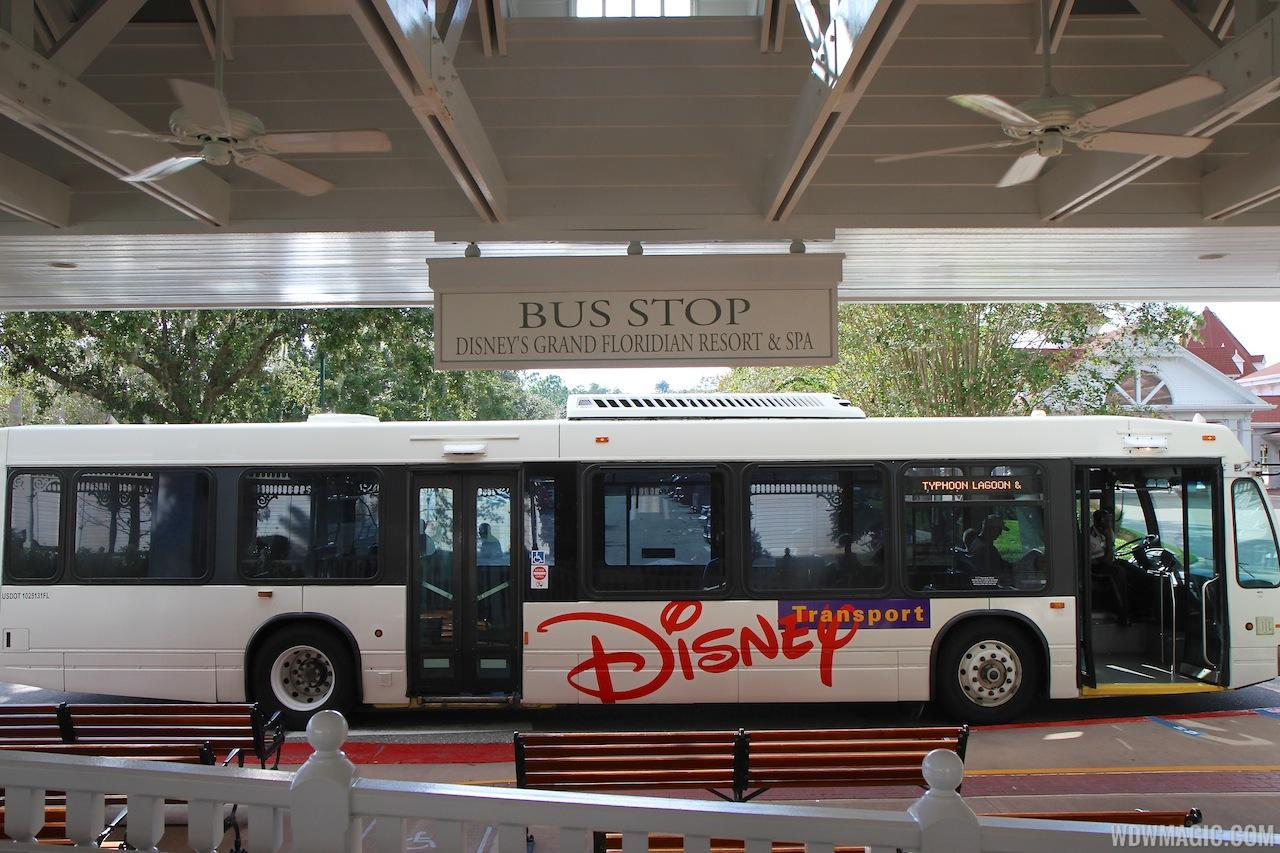Bus: (0, 416, 1279, 744)
